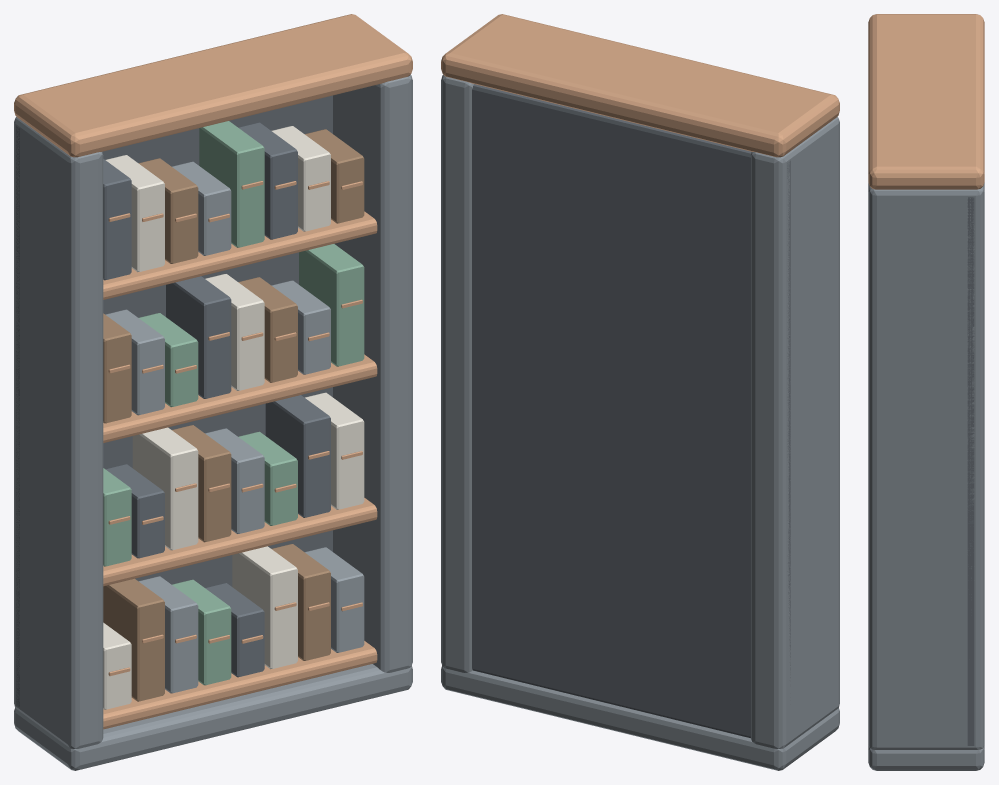
The model's file is library_bookshelf.glb.
The picture shows the model from 3 angles, left to right: view 1: azimuth 30°, elevation 25°; view 2: azimuth 150°, elevation 25°; view 3: azimuth 270°, elevation 25°; orthographic projection. The views are drawn at different scales.
Parts seen in each view (by area): view 1: shell_004, shell_005, shell_002, shell_003, shell_001, shell_040, shell_023, shell_006, shell_057, volume_066, volume_028, volume_047 (+29 smaller); view 2: shell_003, shell_004, shell_002, shell_005, shell_001; view 3: shell_005, shell_002, shell_003, shell_001.
Boxes of the visible parts, box(x1,y1,x2,y2) form: shell_004: box(14, 117, 103, 748); shell_005: box(333, 74, 412, 672); shell_002: box(14, 14, 412, 157); shell_003: box(16, 95, 332, 707); shell_001: box(14, 664, 412, 770); shell_040: box(103, 354, 377, 442); shell_023: box(103, 498, 377, 586); shell_006: box(103, 641, 377, 729); shell_057: box(103, 211, 377, 299); volume_066: box(199, 121, 264, 247); volume_028: box(132, 427, 198, 550); volume_047: box(166, 276, 231, 398); shell_003: box(472, 84, 790, 737); shell_004: box(750, 117, 839, 748); shell_002: box(441, 14, 839, 157); shell_005: box(441, 74, 473, 672); shell_001: box(441, 665, 839, 770); shell_005: box(868, 183, 984, 749); shell_002: box(868, 14, 984, 189); shell_003: box(967, 197, 974, 745); shell_001: box(868, 744, 984, 770).
Size of the model in its own units: 1.1 by 1.95 by 0.34.
